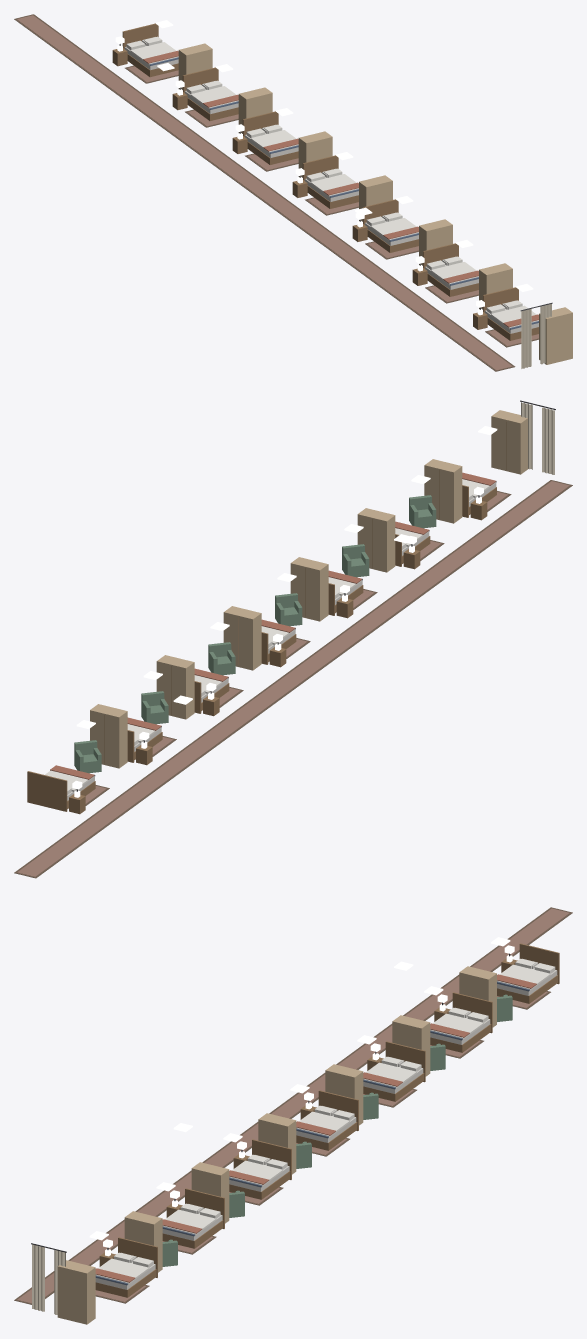
Rendered from fine-s4.glb.
The picture shows the model from 3 angles, top to bottom: view 1: azimuth 30°, elevation 25°; view 2: azimuth 150°, elevation 25°; view 3: azimuth 330°, elevation 25°; orthographic projection. The views are drawn at different scales.
Parts seen in each view (by area): view 1: soft-s4, dresser.027, bed-frame.023, bed-frame.024, bed-frame.022, bed-frame.026, bed-frame.025, bed-frame.021, bed-frame.027, dresser.021, dresser.022, dresser.023 (+3 smaller); view 2: soft-s4, dresser.027, dresser.026, dresser.024, dresser.023, dresser.025, dresser.021, dresser.022, bed-frame.021, lounge-chair.019, lounge-chair.020, lounge-chair.018 (+3 smaller); view 3: soft-s4, dresser.027, bed-frame.027, bed-frame.021, bed-frame.023, bed-frame.022, bed-frame.024, bed-frame.025, bed-frame.026, dresser.022, dresser.023, dresser.026 (+3 smaller).
Boxes of the visible parts, x1,y1,x2,y2 form: soft-s4: [14, 14, 552, 371]; dresser.027: [539, 307, 572, 364]; bed-frame.023: [242, 111, 298, 164]; bed-frame.024: [302, 155, 358, 208]; bed-frame.022: [182, 67, 238, 120]; bed-frame.026: [423, 243, 478, 296]; bed-frame.025: [363, 199, 418, 252]; bed-frame.021: [122, 23, 178, 77]; bed-frame.027: [483, 287, 538, 340]; dresser.021: [178, 43, 212, 89]; dresser.022: [238, 87, 272, 133]; dresser.023: [298, 131, 332, 177]; soft-s4: [14, 400, 572, 878]; dresser.027: [491, 410, 528, 474]; dresser.026: [424, 459, 462, 523]; dresser.024: [290, 557, 328, 621]; dresser.023: [223, 606, 261, 670]; dresser.025: [357, 508, 395, 572]; dresser.021: [90, 704, 127, 768]; dresser.022: [156, 655, 194, 719]; bed-frame.021: [27, 771, 95, 811]; lounge-chair.019: [141, 691, 168, 724]; lounge-chair.020: [208, 642, 235, 675]; lounge-chair.018: [74, 740, 101, 773]; soft-s4: [14, 907, 572, 1314]; dresser.027: [57, 1260, 95, 1324]; bed-frame.027: [95, 1237, 157, 1297]; bed-frame.021: [497, 943, 559, 1003]; bed-frame.023: [363, 1041, 425, 1101]; bed-frame.022: [430, 992, 492, 1052]; bed-frame.024: [296, 1090, 358, 1150]; bed-frame.025: [229, 1139, 291, 1199]; bed-frame.026: [162, 1188, 224, 1248]; dresser.022: [392, 1015, 430, 1076]; dresser.023: [325, 1064, 363, 1125]; dresser.026: [124, 1211, 162, 1272].
Bounding box in the file's own units: 3.55 × 2.61 × 38.42.
